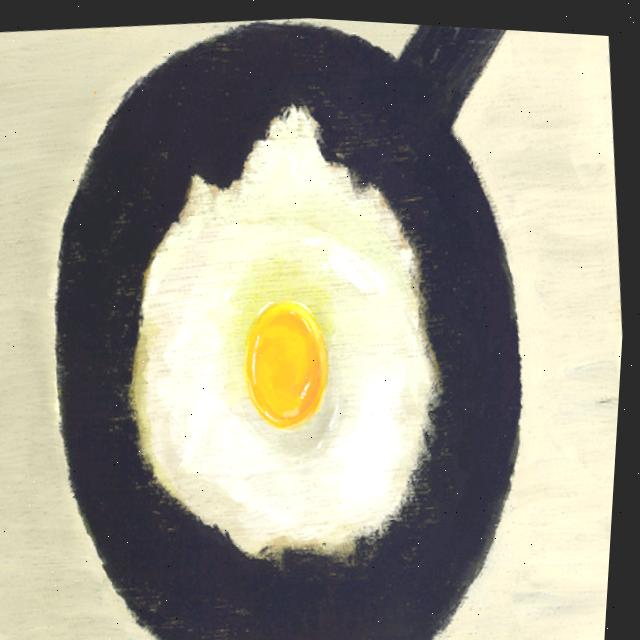鸡蛋料理: (78, 5, 477, 544)
